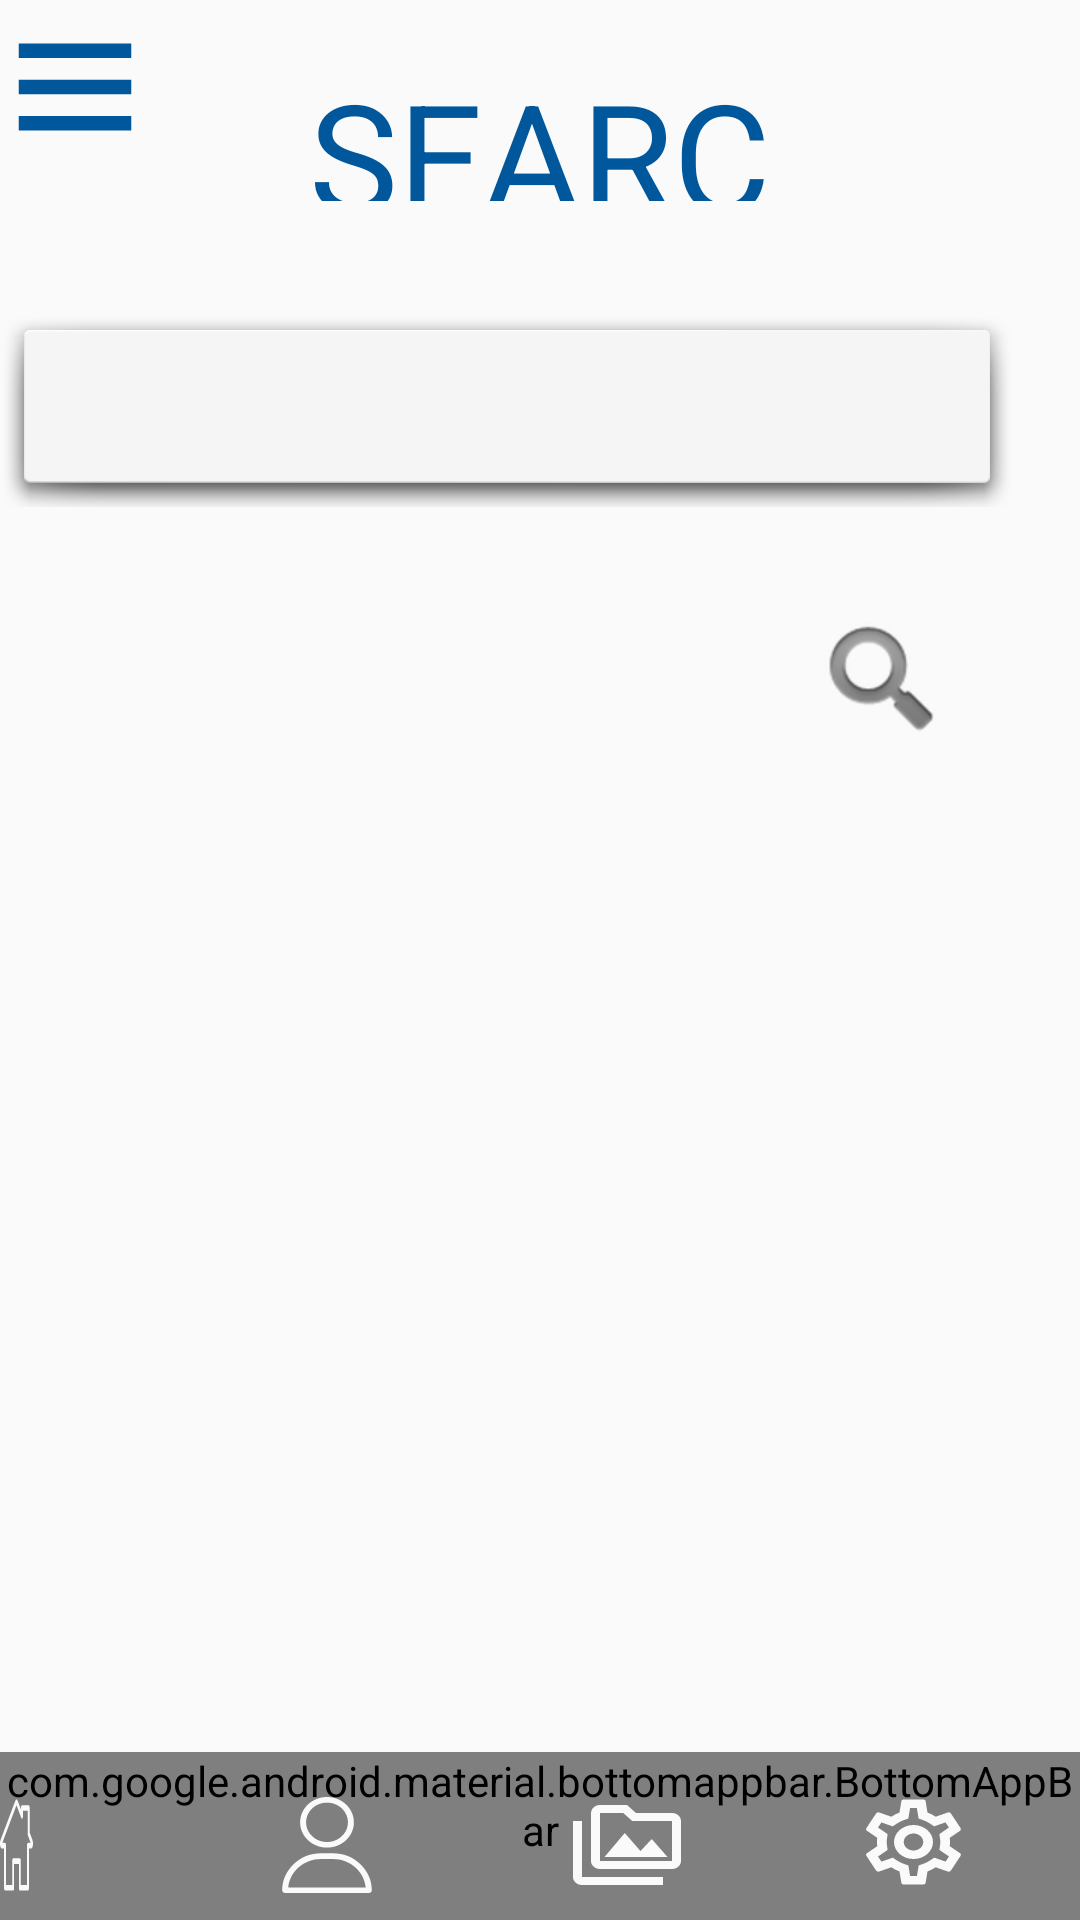

Named icons in this screenshot (1080*1920) and their centers, [x,y]:
menu: [75,87]
perm media: [627,1845]
search category: [881,678]
settings: [913,1842]
